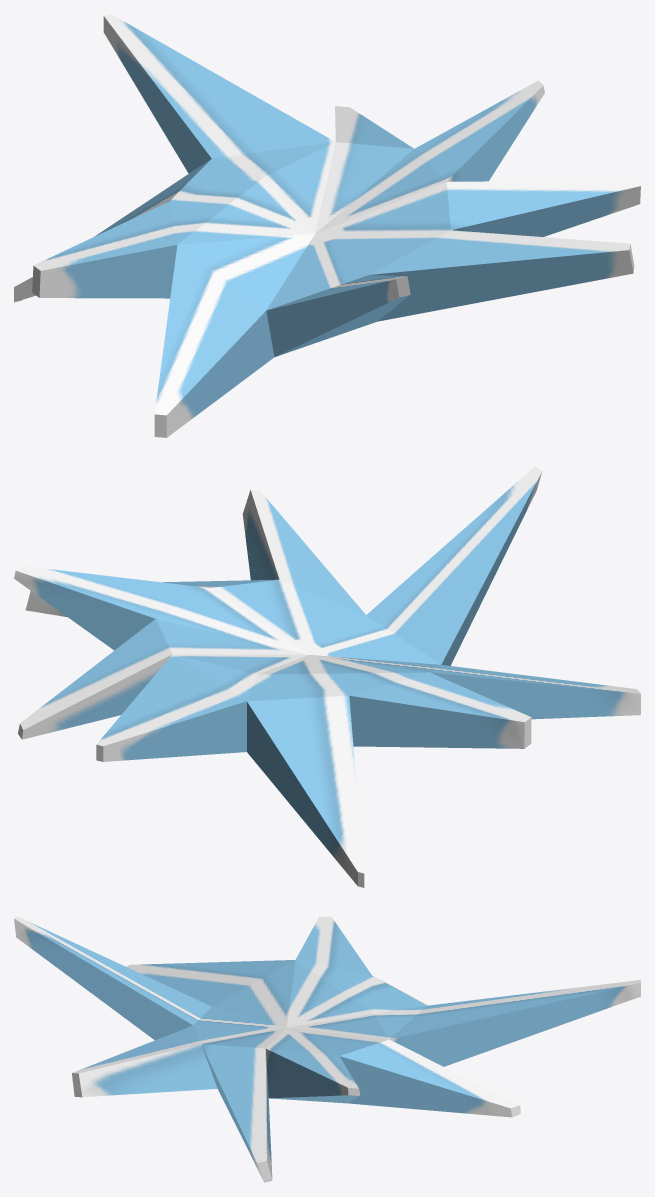
File: shipBulletModel2.fbx
The picture shows the model from 3 angles, top to bottom: view 1: azimuth 30°, elevation 25°; view 2: azimuth 150°, elevation 25°; view 3: azimuth 270°, elevation 25°; orthographic projection. The views are drawn at different scales.
Parts seen in each view (by area): view 1: Cube.001; view 2: Cube.001; view 3: Cube.001.
Boxes of the visible parts, x1=… form: Cube.001: x1=14, y1=14, x2=640, y2=437; Cube.001: x1=14, y1=466, x2=640, y2=887; Cube.001: x1=14, y1=916, x2=640, y2=1182.
Size of the model in its own units: 239 by 84.87 by 278.
